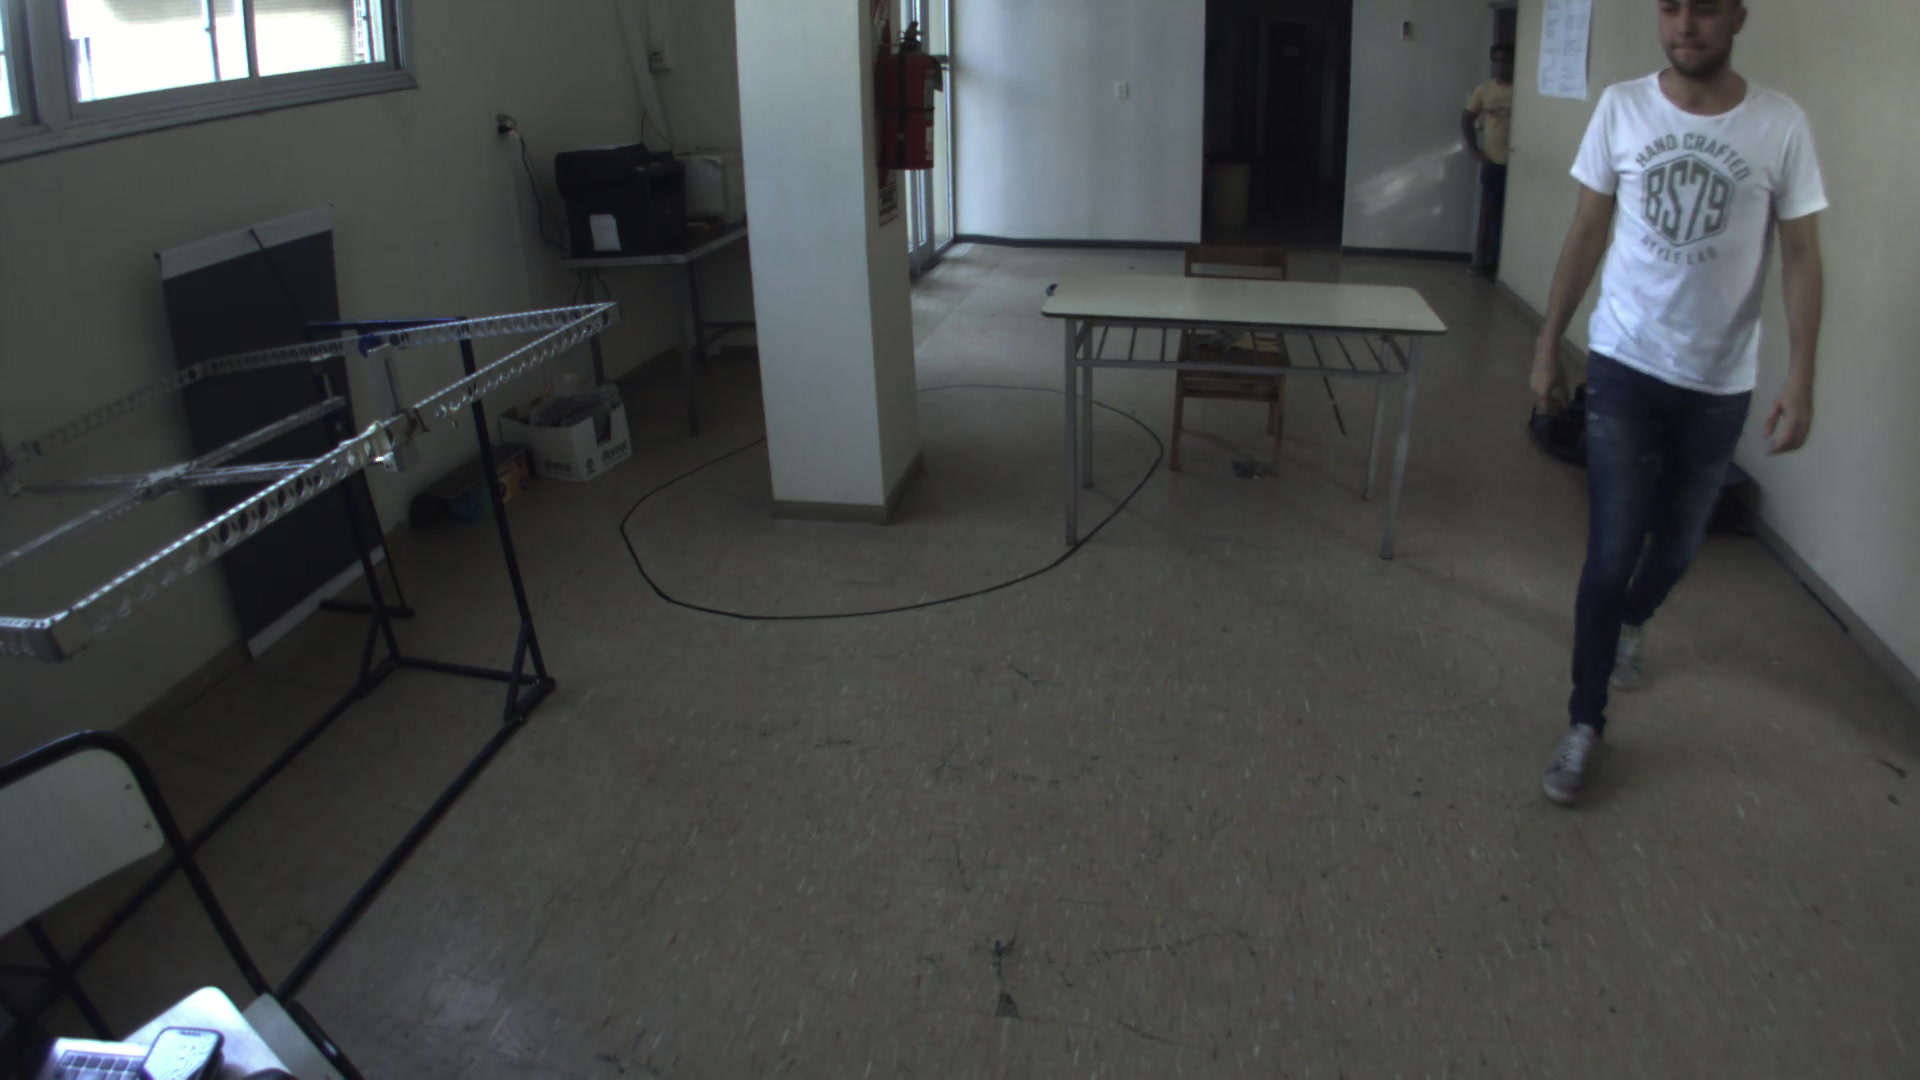hand: (1514, 342, 1590, 427), (1751, 372, 1820, 463)
